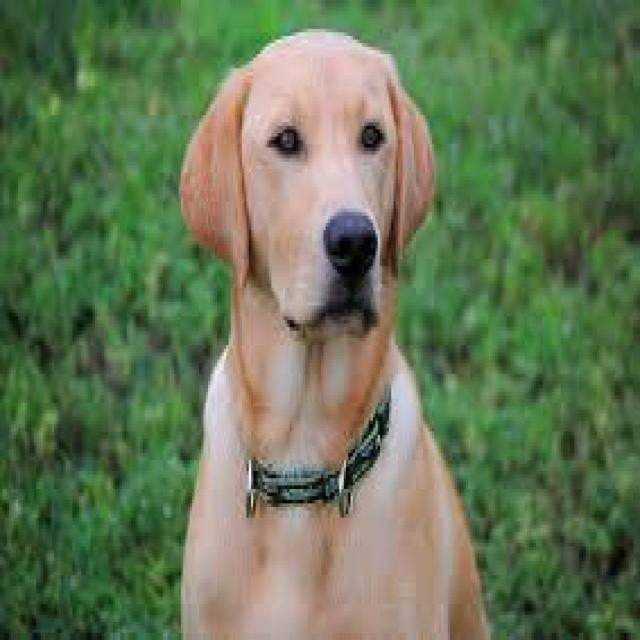dog: (182, 29, 491, 640)
